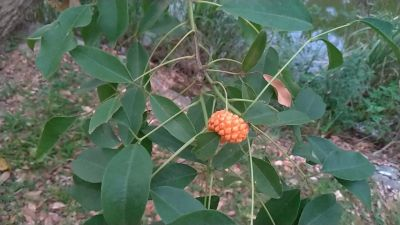eggs: (206, 106, 247, 147)
